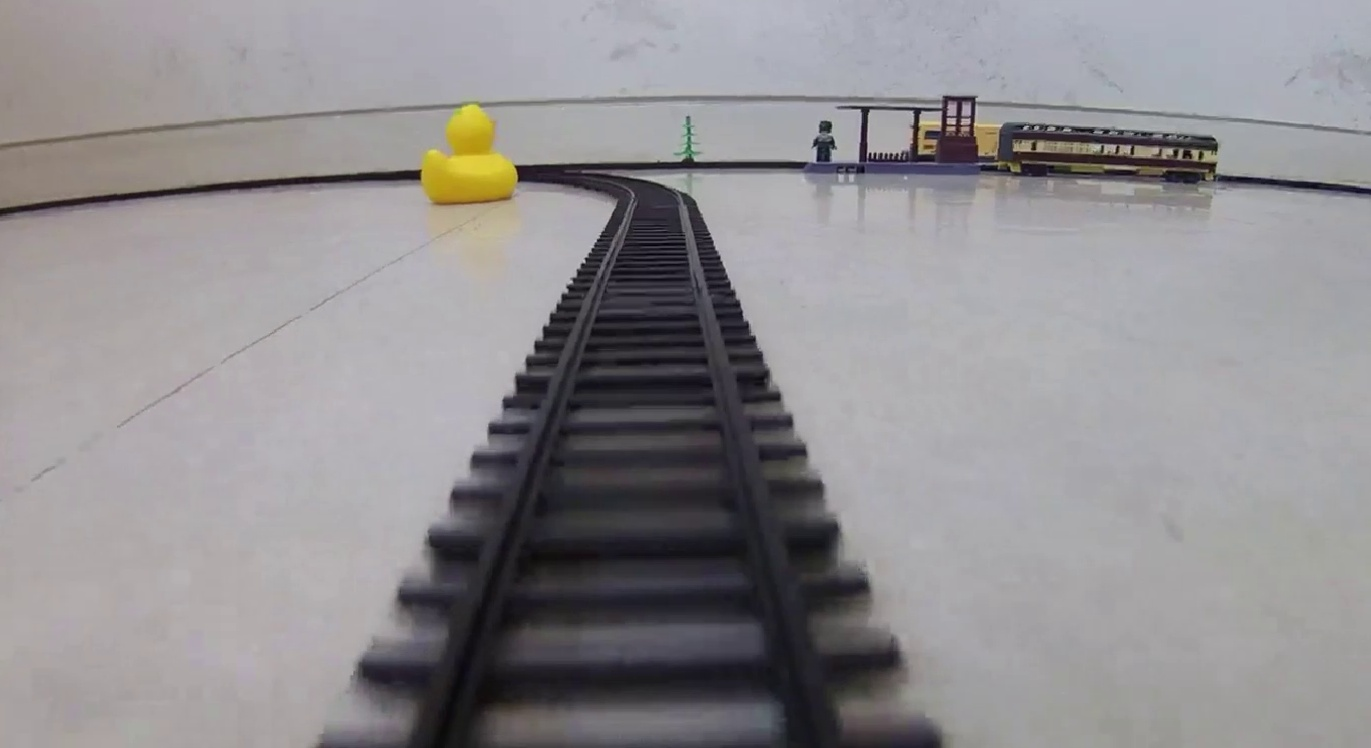people: (810, 119, 839, 162)
